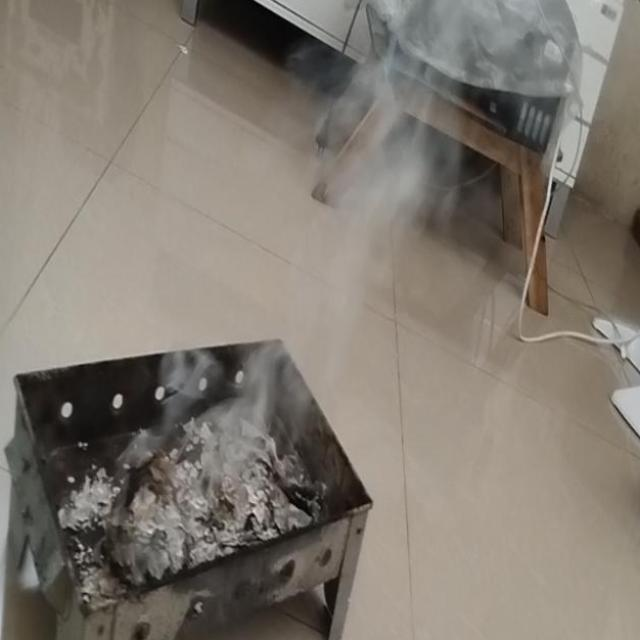fire: (306, 72, 460, 340), (162, 314, 306, 488)
